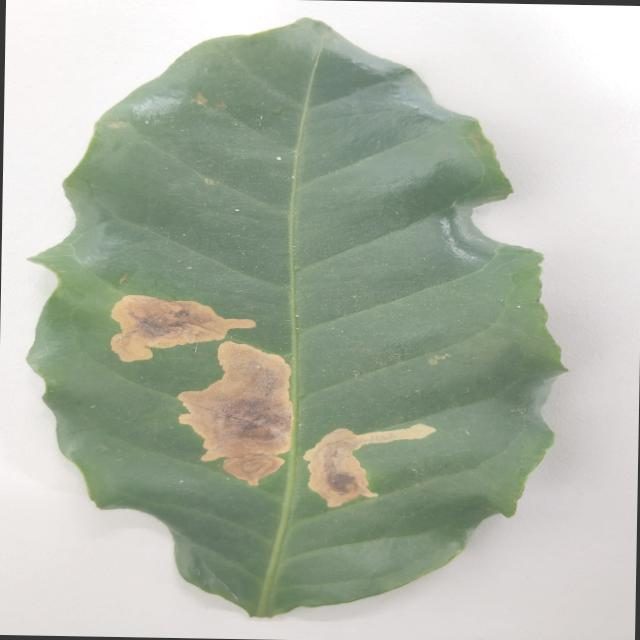KaratDaunKopi: (179, 341, 292, 484), (304, 424, 435, 506), (111, 295, 255, 361)
